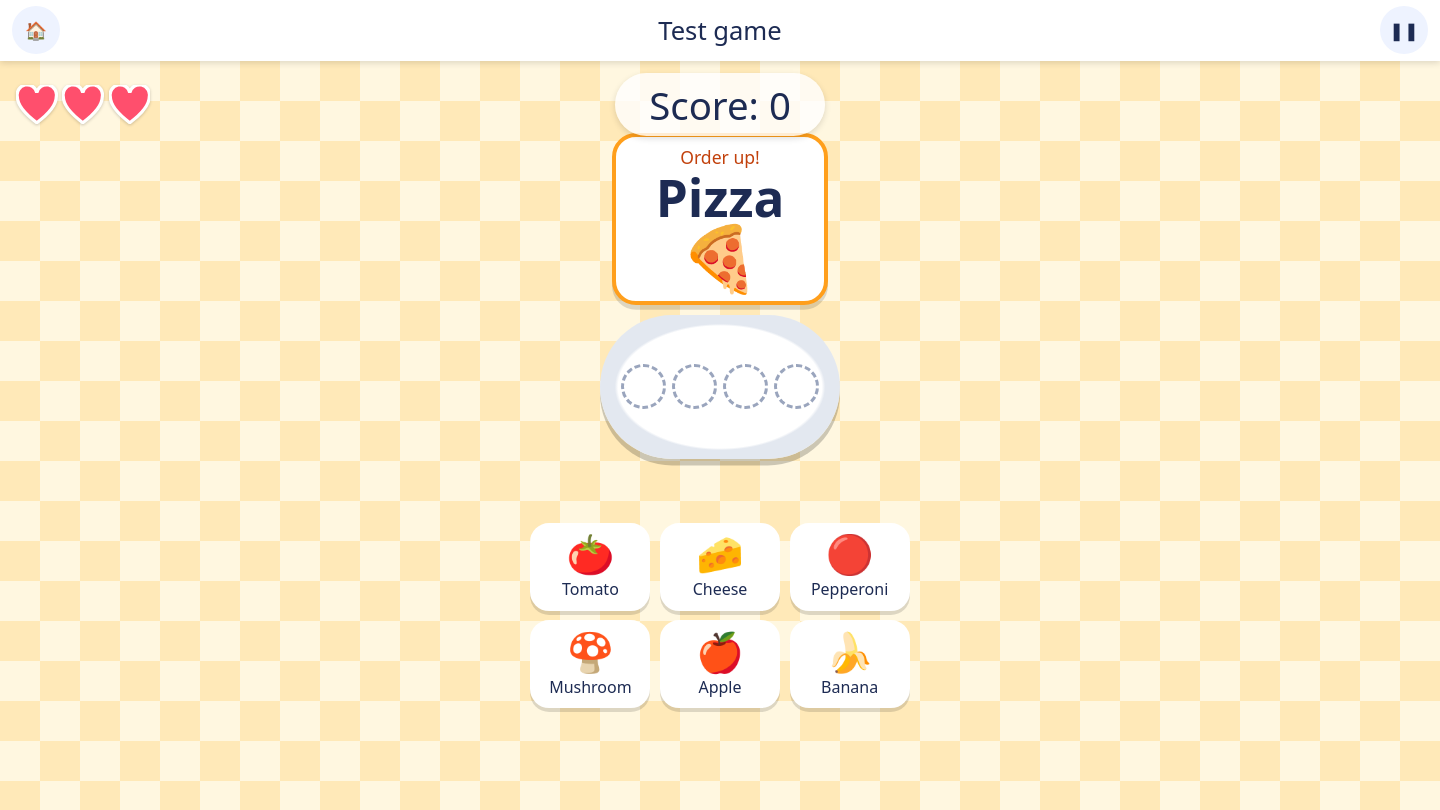
Test: KitchenScreen › gently says no to something that does not belong, and takes a heart
Step 1. Click the button "🍎 Apple" → (720, 664), box [660,620,780,708]
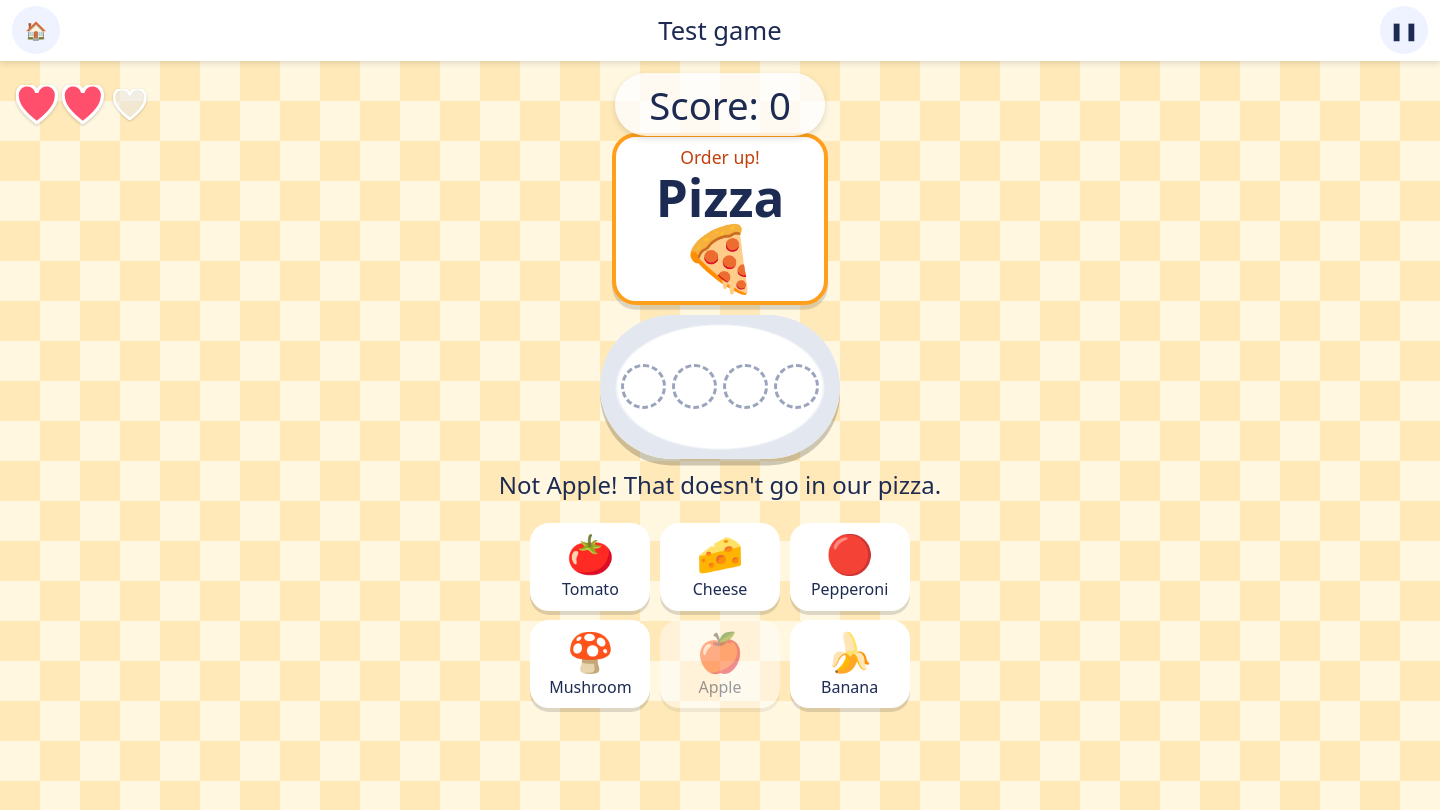
Result: the picture named "2 lives left" is shown at [16,85,146,124]
Result: the message "Not Apple! That doesn't go in our pizza." is shown at [499,468,941,513]
